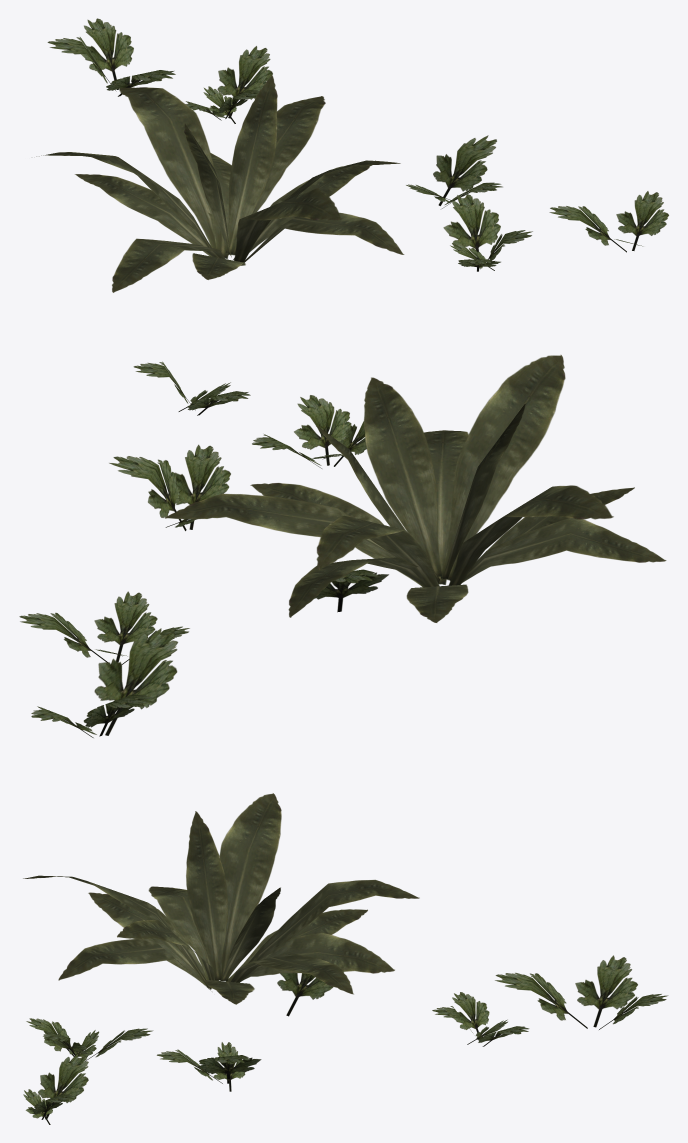
File: desert_grass2.glb
3 views of the same model, one above another, from view 1: azimuth 30°, elevation 25°; view 2: azimuth 150°, elevation 25°; view 3: azimuth 270°, elevation 25° (orthographic). The views are drawn at different scales.
Visible parts, largest first — view 1: Group; view 2: Group; view 3: Group.
Part boxes in pixels (left/top/right/bottom): Group: left=36, top=18, right=668, bottom=292; Group: left=19, top=355, right=666, bottom=737; Group: left=23, top=793, right=668, bottom=1124.
Size of the model in its own units: 2.57 by 0.7993 by 2.94.
1 material, 1 textured.
